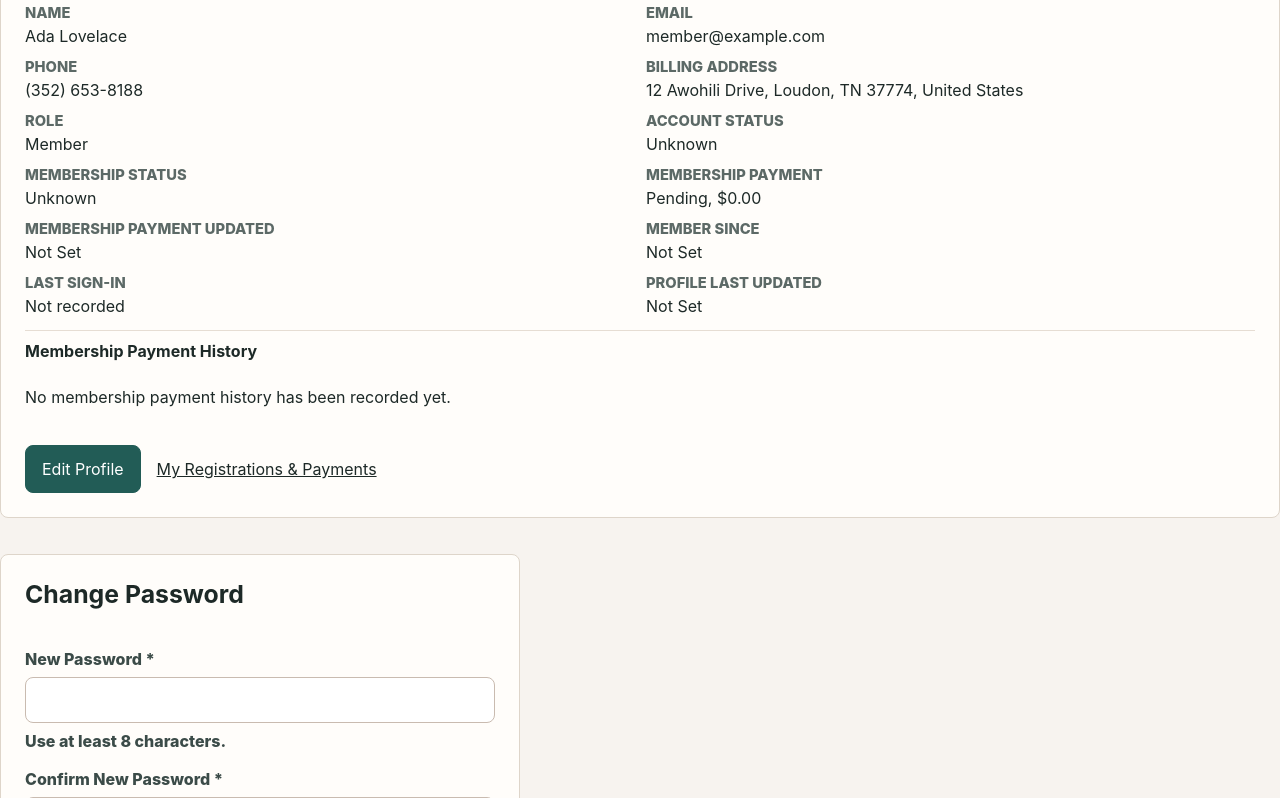
Test case: entering and leaving edit mode › reveals the form on Edit Profile
Step 1. Click the button "Edit Profile" → (83, 469), box [25, 445, 141, 493]
(page scrolled)
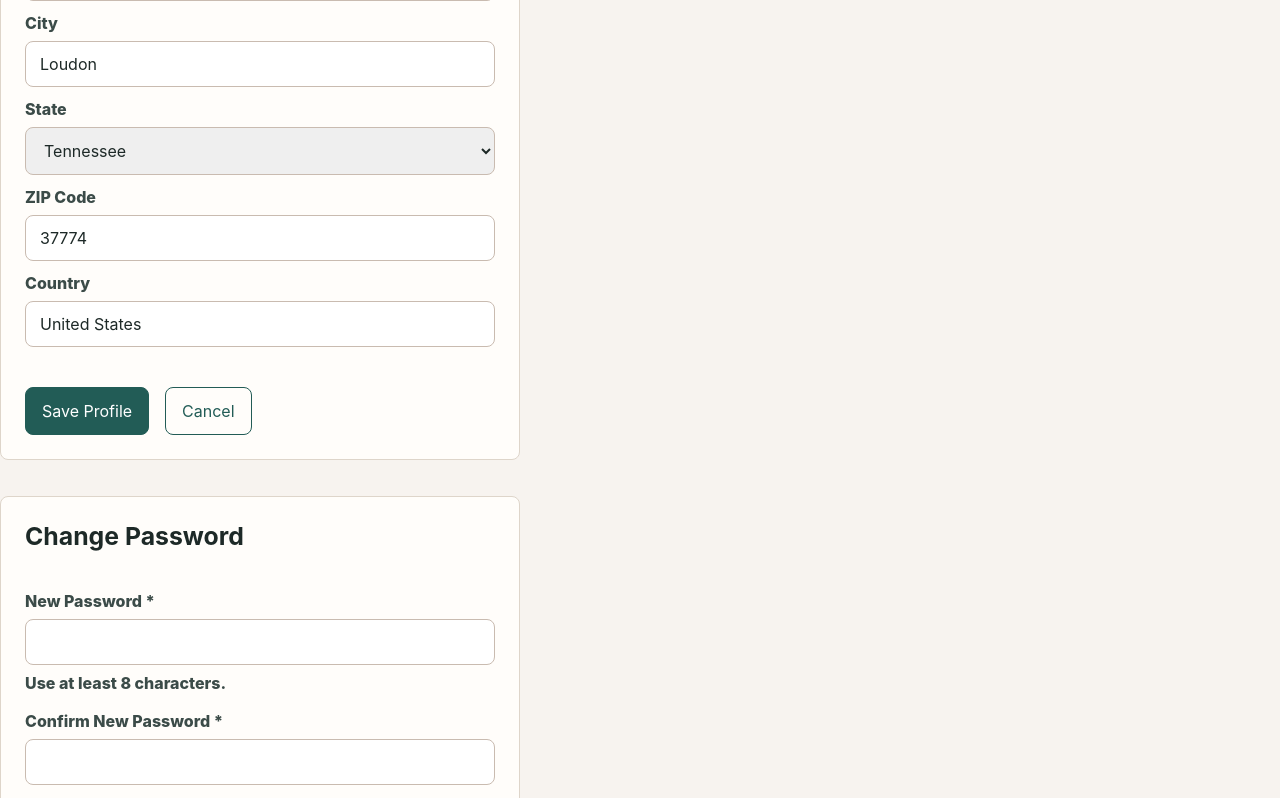
expect the button "Cancel" is shown: met, box [165, 387, 252, 435]
expect the button "Edit Profile" is gone: met
